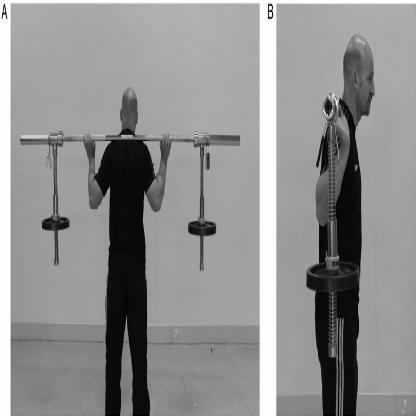Barbell: (323, 93, 336, 122)
